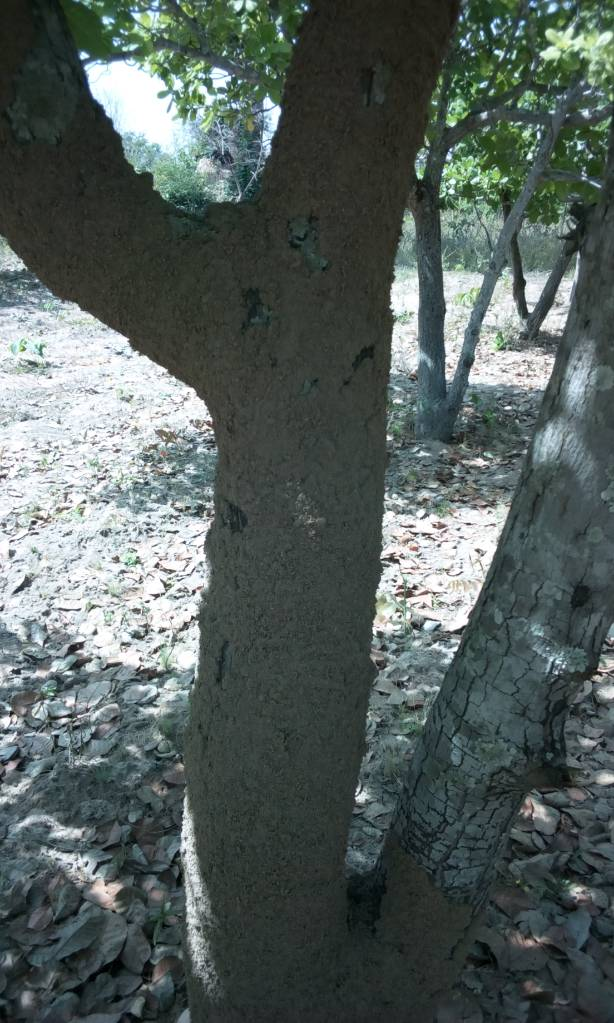Termites: (195, 335, 381, 1017), (17, 136, 253, 322), (294, 3, 403, 327)
